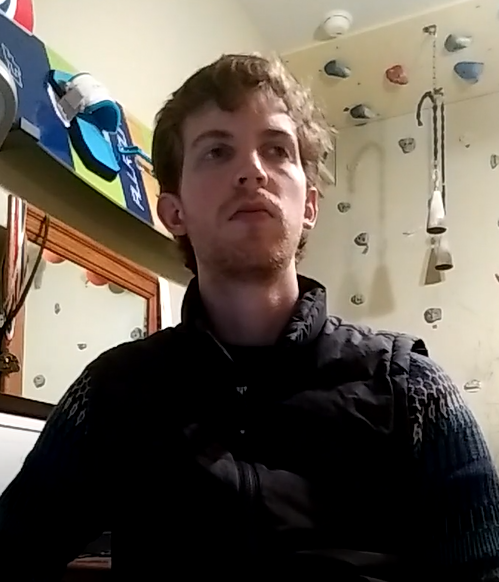Not Sleeping: (191, 126, 301, 171)
